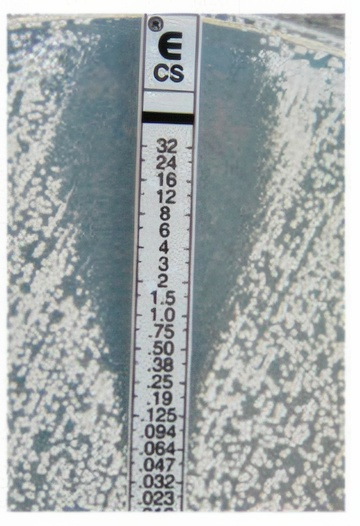line: (125, 11, 204, 517)
zone: (53, 15, 271, 438)
